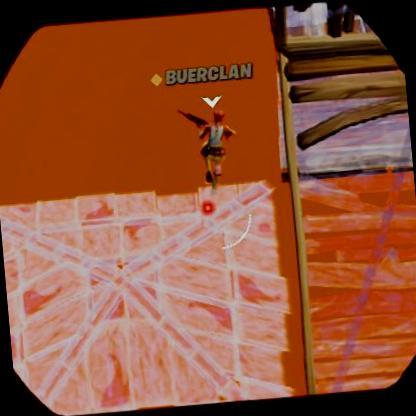person: (198, 104, 228, 185)
